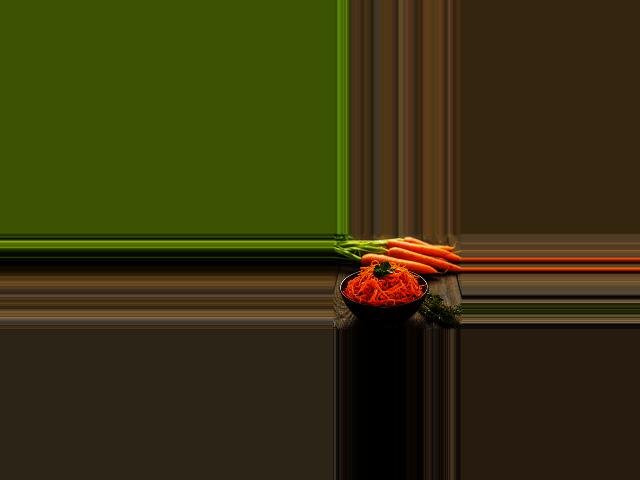carrot: (355, 253, 442, 274)
